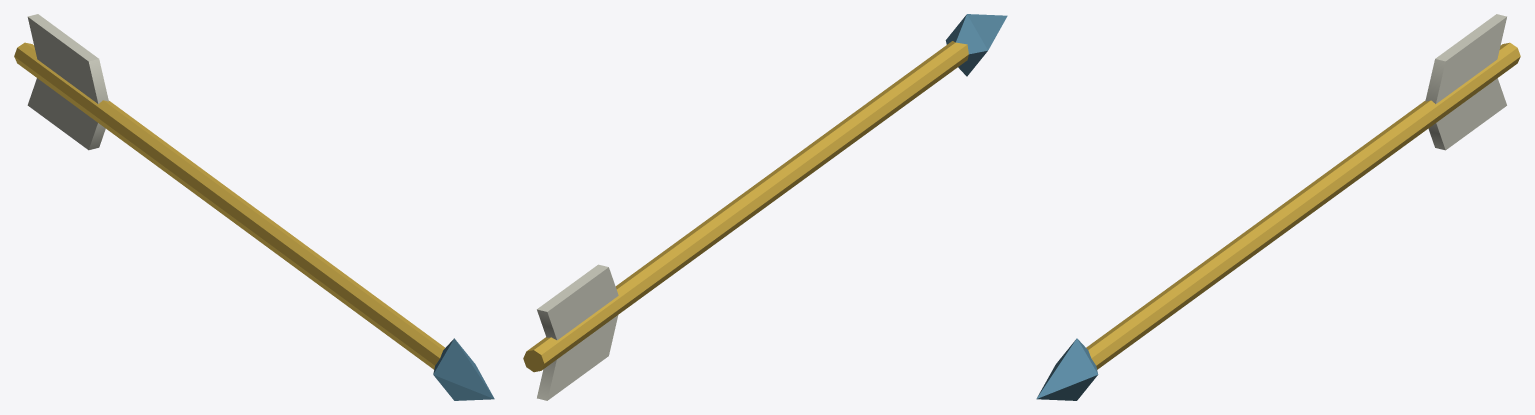
The model's file is Arrow.fbx.
The picture shows the model from 3 angles, left to right: view 1: azimuth 30°, elevation 25°; view 2: azimuth 150°, elevation 25°; view 3: azimuth 330°, elevation 25°; orthographic projection.
Parts seen in each view (by area): view 1: body, feather, tip; view 2: body, feather, tip; view 3: body, feather, tip.
Part boxes in pixels (x1,y1,x2,y2): body: (14,42,444,369); feather: (27,14,108,150); tip: (433,338,494,400); body: (523,41,968,372); feather: (537,264,618,400); tip: (945,14,1007,76); body: (1086,42,1520,369); feather: (1425,14,1506,150); tip: (1036,338,1098,400).
Size of the model in its own units: 2 by 4 by 38.5.
